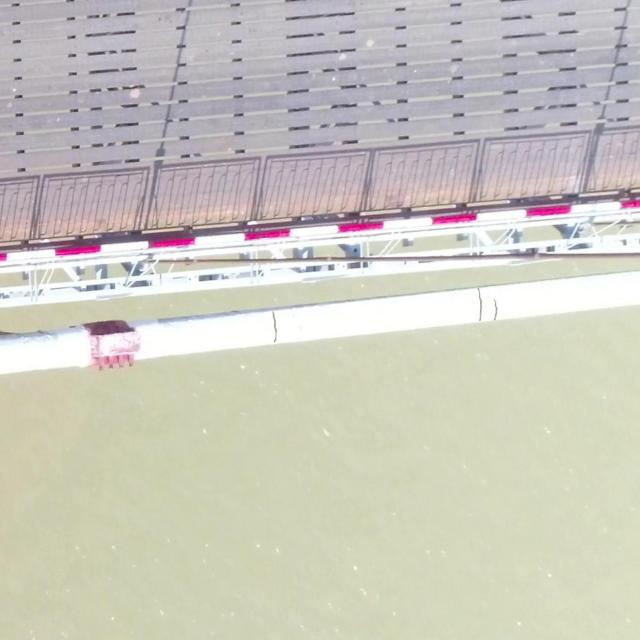crack: (272, 311, 278, 342), (477, 288, 482, 322), (492, 299, 498, 321)
